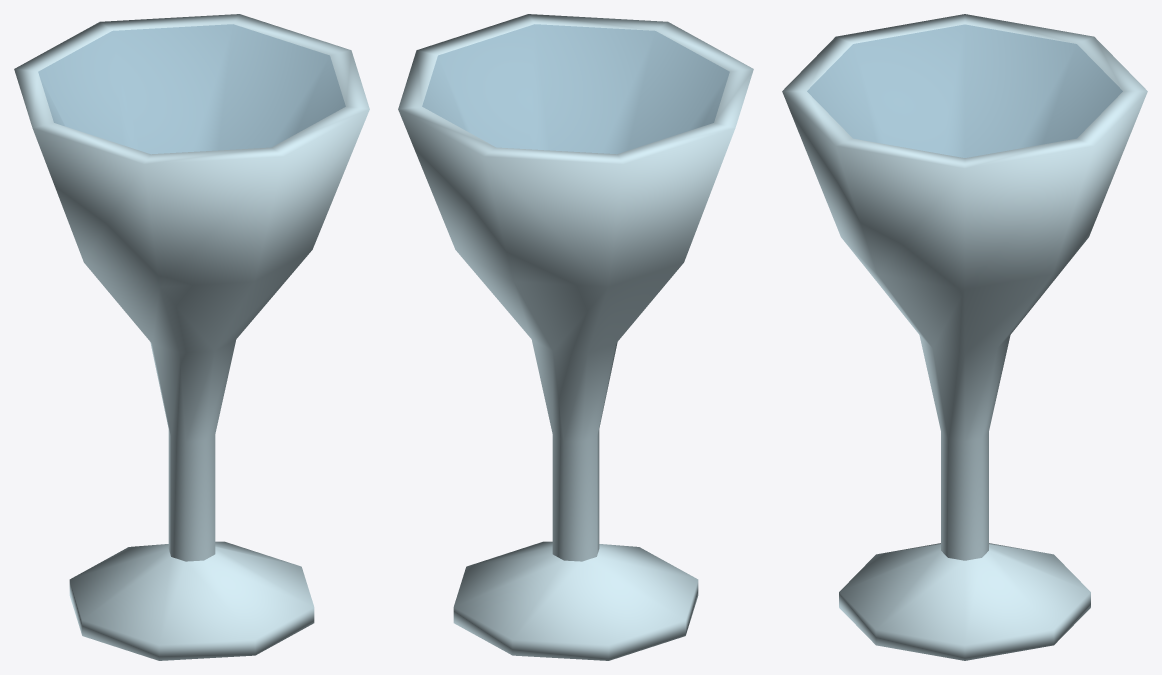
Rendered from WineGlass_01.glb.
3 views of the same model, side by side, from view 1: azimuth 30°, elevation 25°; view 2: azimuth 150°, elevation 25°; view 3: azimuth 270°, elevation 25° (orthographic).
Parts seen in each view (by area): view 1: WineGlass_01; view 2: WineGlass_01; view 3: WineGlass_01.
Part boxes in pixels (bbox=[...]): WineGlass_01: bbox=[14, 14, 369, 660]; WineGlass_01: bbox=[398, 14, 753, 660]; WineGlass_01: bbox=[782, 14, 1147, 660].
Size of the model in its own units: 0.1508 by 0.2349 by 0.1508.
Materials: 1 (1 with a texture image).
